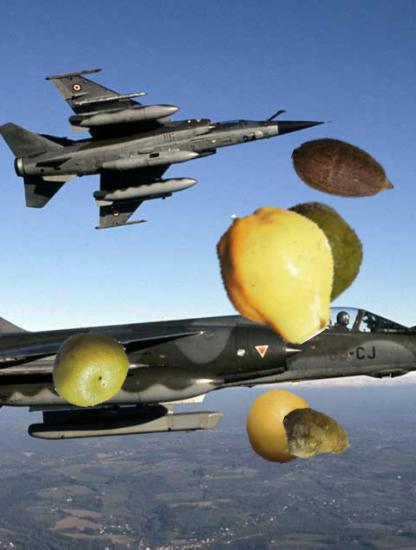Ginger: (280, 401, 351, 472)
Grapefruit: (244, 389, 318, 463)
Guava: (245, 201, 364, 320)
Nut: (290, 117, 398, 225)
Pomelo: (49, 328, 130, 409)
Quince: (207, 199, 353, 345)
